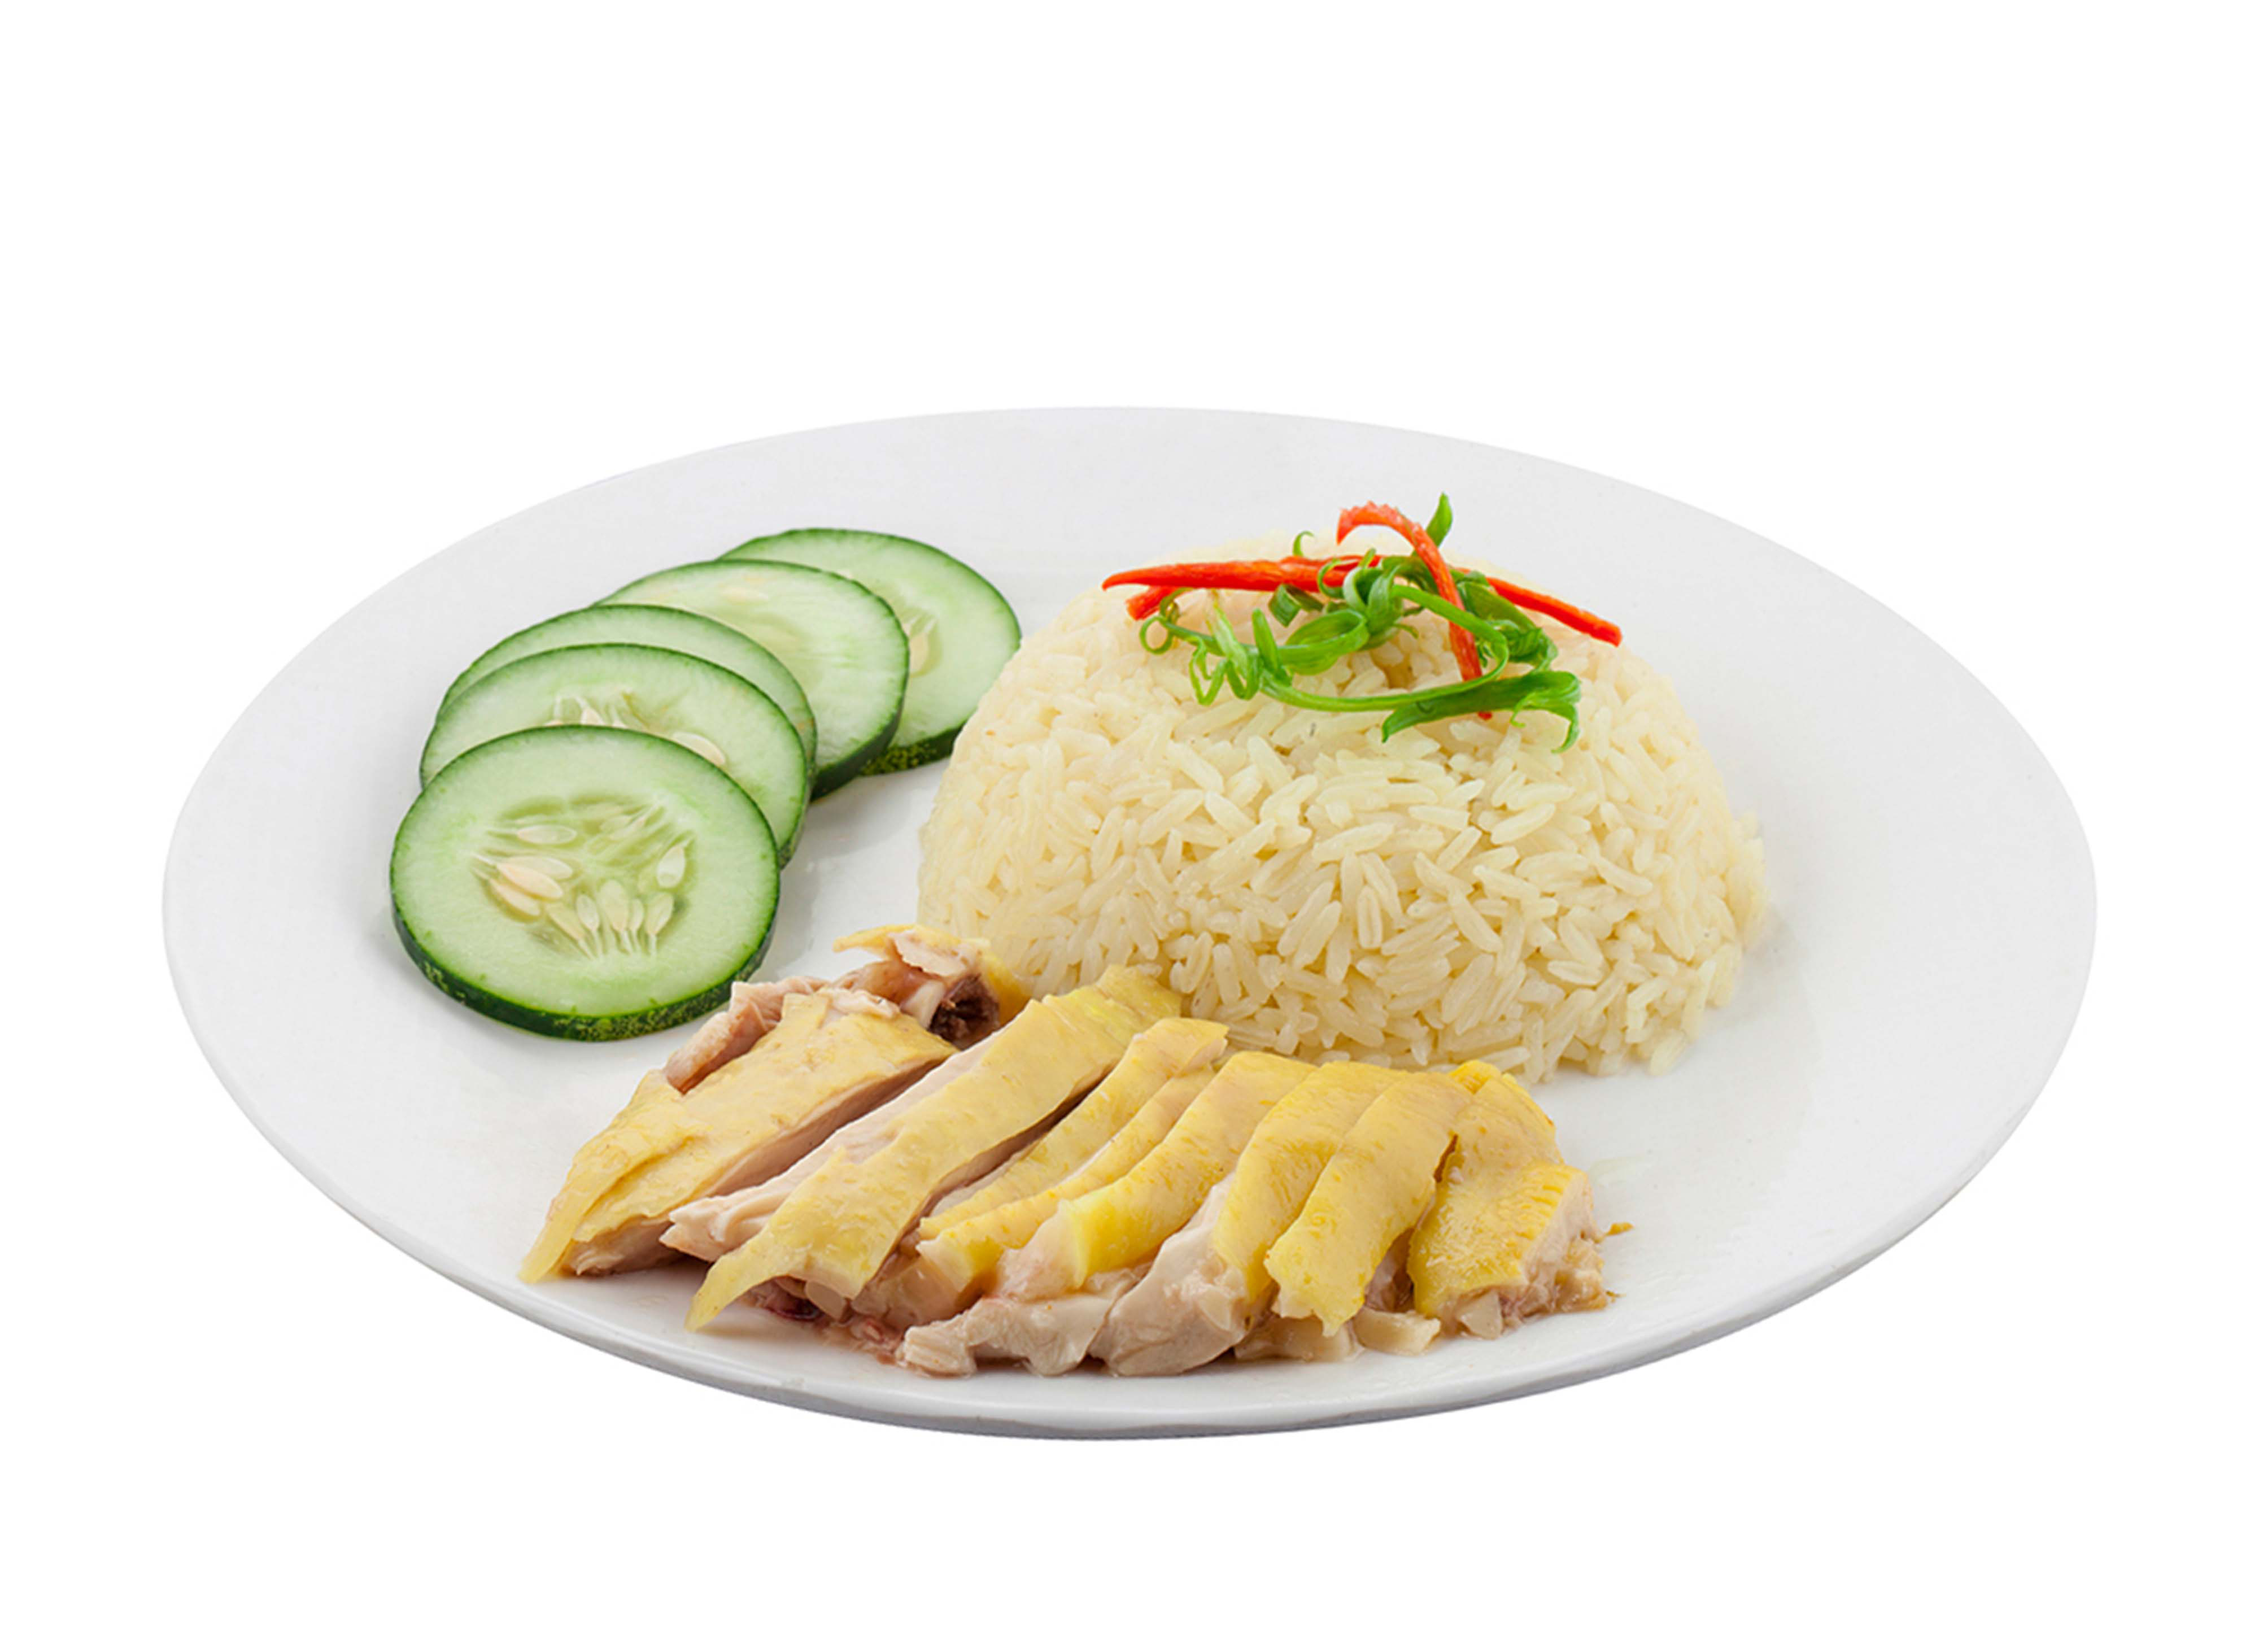Steamed Chicken Rice: (558, 554, 1828, 1413)
